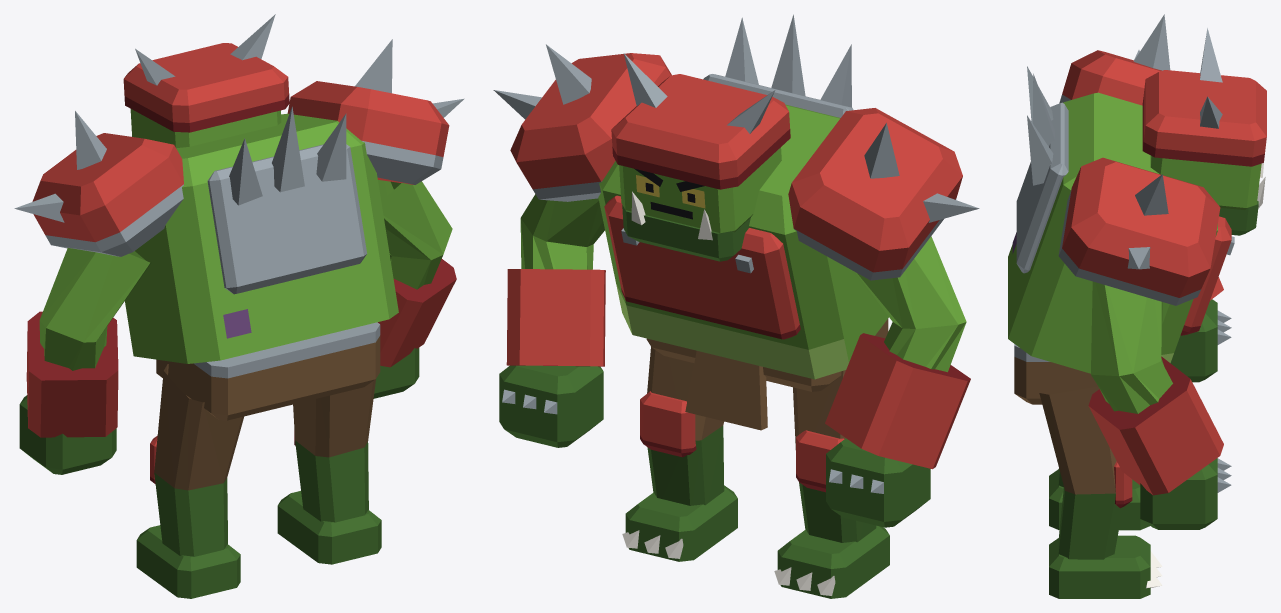
File: enm_elite_brute.glb
3 renders of one model, left to right at view 1: azimuth 30°, elevation 25°; view 2: azimuth 150°, elevation 25°; view 3: azimuth 270°, elevation 25°, orthographic. The views are drawn at different scales.
Parts seen in each view (by area): view 1: enm_elite_brute; view 2: enm_elite_brute; view 3: enm_elite_brute.
Boxes of the visible parts, x1=… form: enm_elite_brute: x1=14, y1=14, x2=464, y2=598; enm_elite_brute: x1=493, y1=14, x2=979, y2=598; enm_elite_brute: x1=1008, y1=14, x2=1266, y2=598.
Bounding box in the file's own units: 2.56 × 2.64 × 1.27.
1 material, 1 textured.
